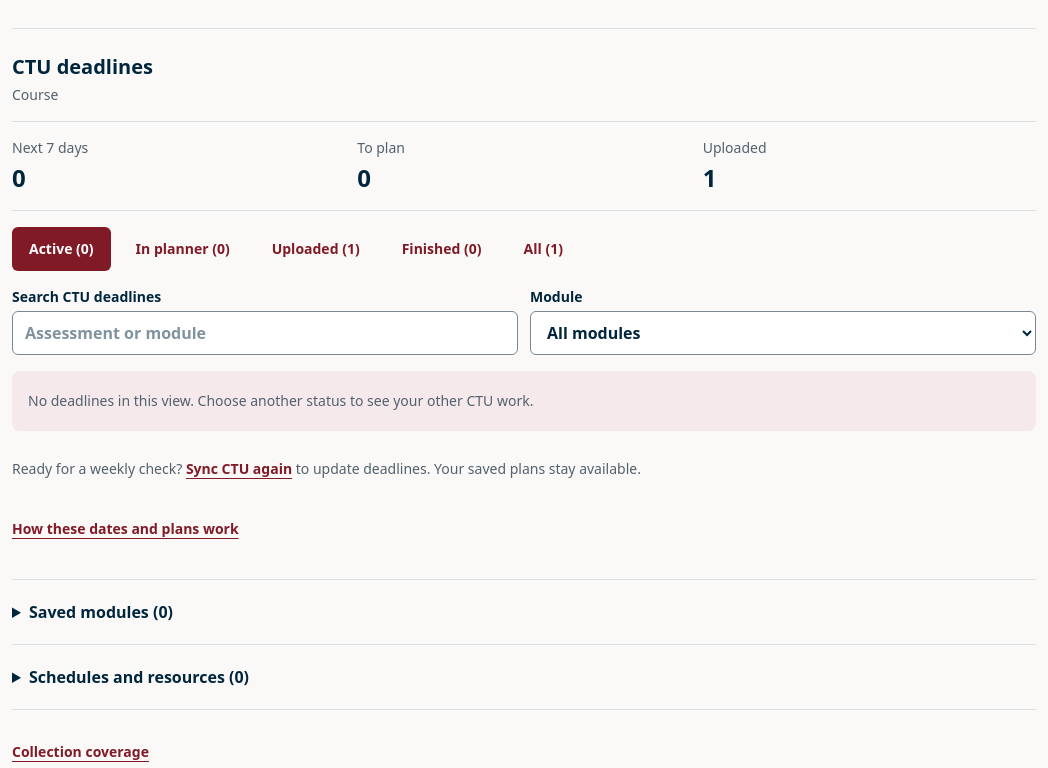
saved CTU presentation › retains uploaded records in a separate view without inventing completion or time
expect the text "SPM622 FA1" is not shown: met
Click the button "Uploaded (1)".
click(316, 249)  # box [255, 227, 377, 271]
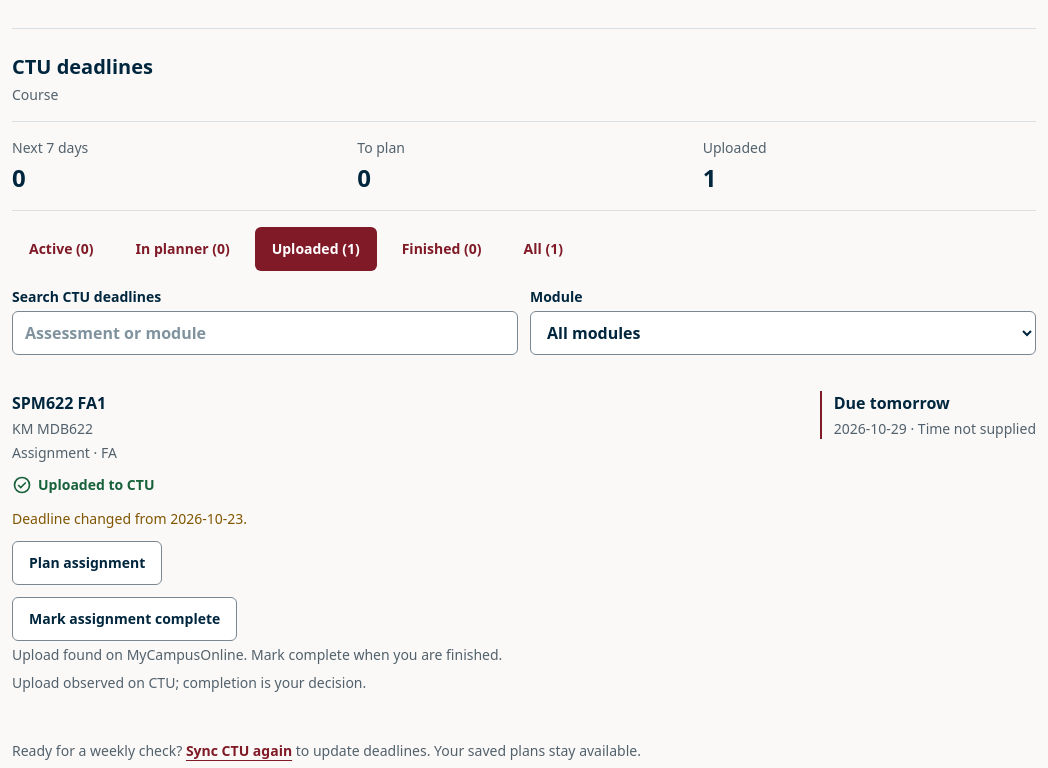
expect the text "SPM622 FA1" is shown: met, box [12, 392, 106, 414]
expect the text "2026-10-29 · Time not supplied" is shown: met, box [834, 419, 1036, 439]
expect the text "Deadline changed from 2026-10-23." is shown: met, box [12, 509, 247, 528]
